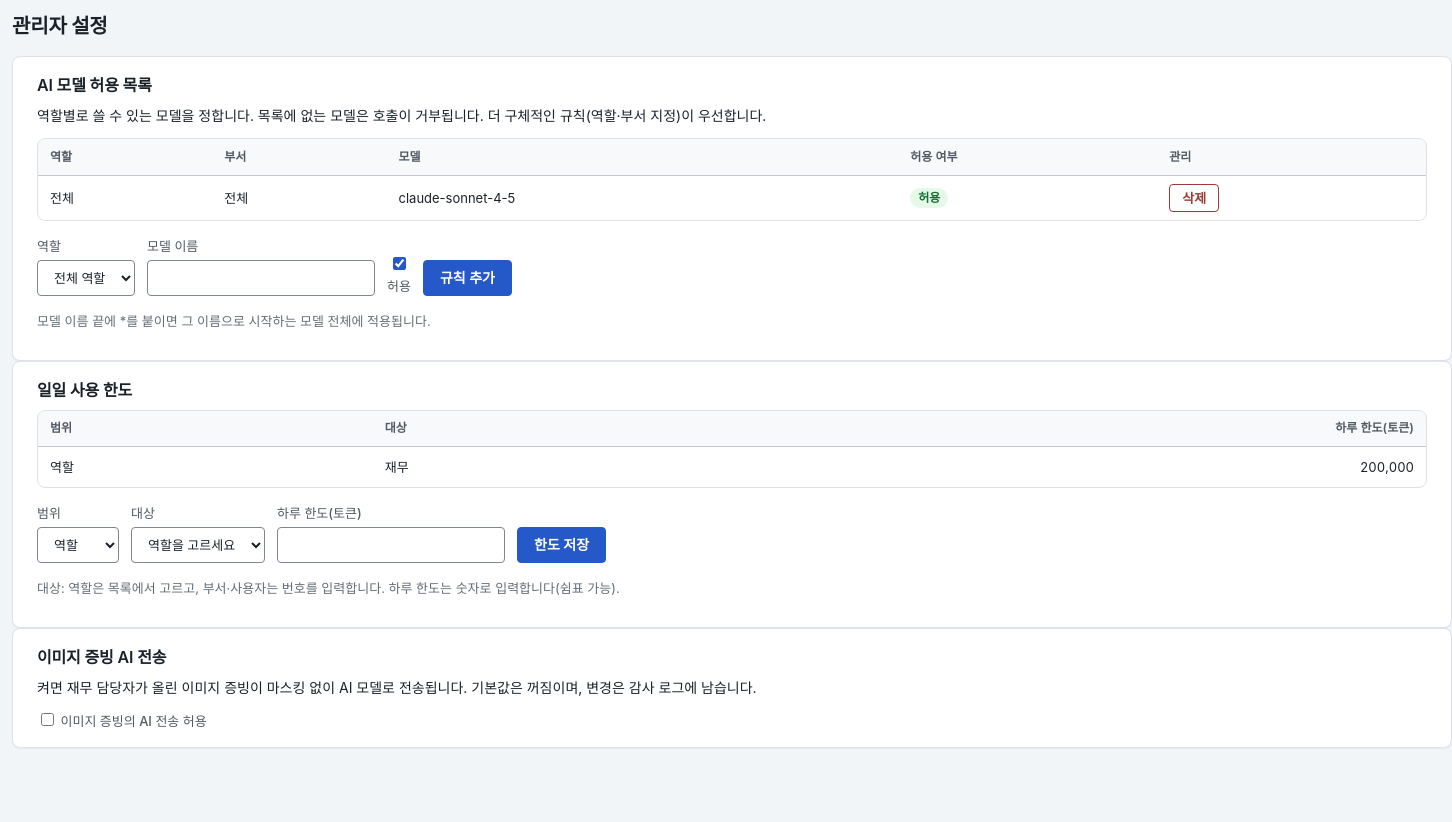
Test case: 관리자 설정 화면 › 저장 실패 문구에서 서버 머리말을 떼고 보인다
This screenshot has width=1452, height=822.
Expected: the text "claude-sonnet-4-5" is shown, [386,175,898,220]
Type "m" into the field labelled "모델 이름". click: (261, 278)
box: [147,260,375,296]
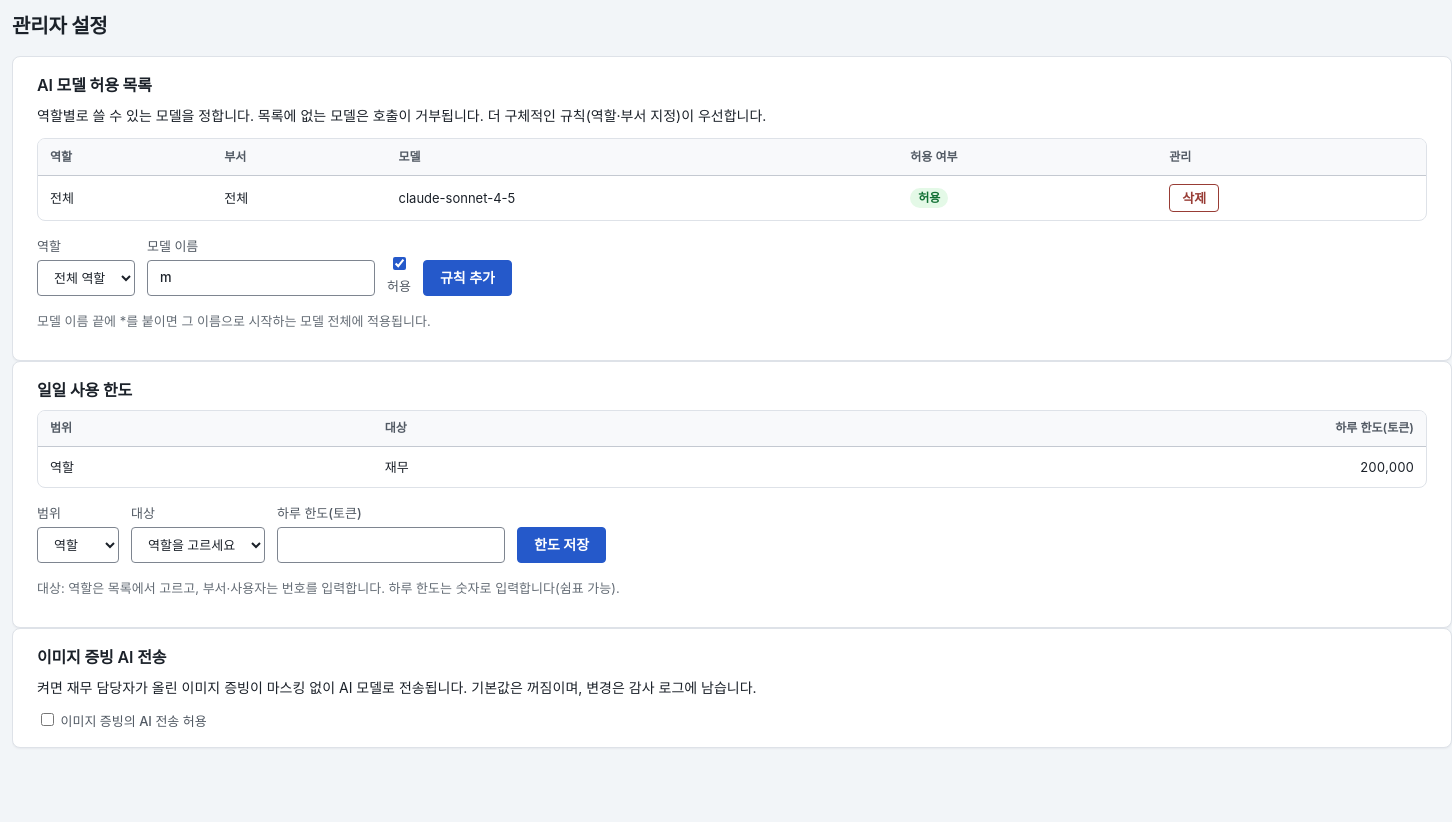
Click the button "규칙 추가". click: (467, 278)
box: [423,260,512,296]
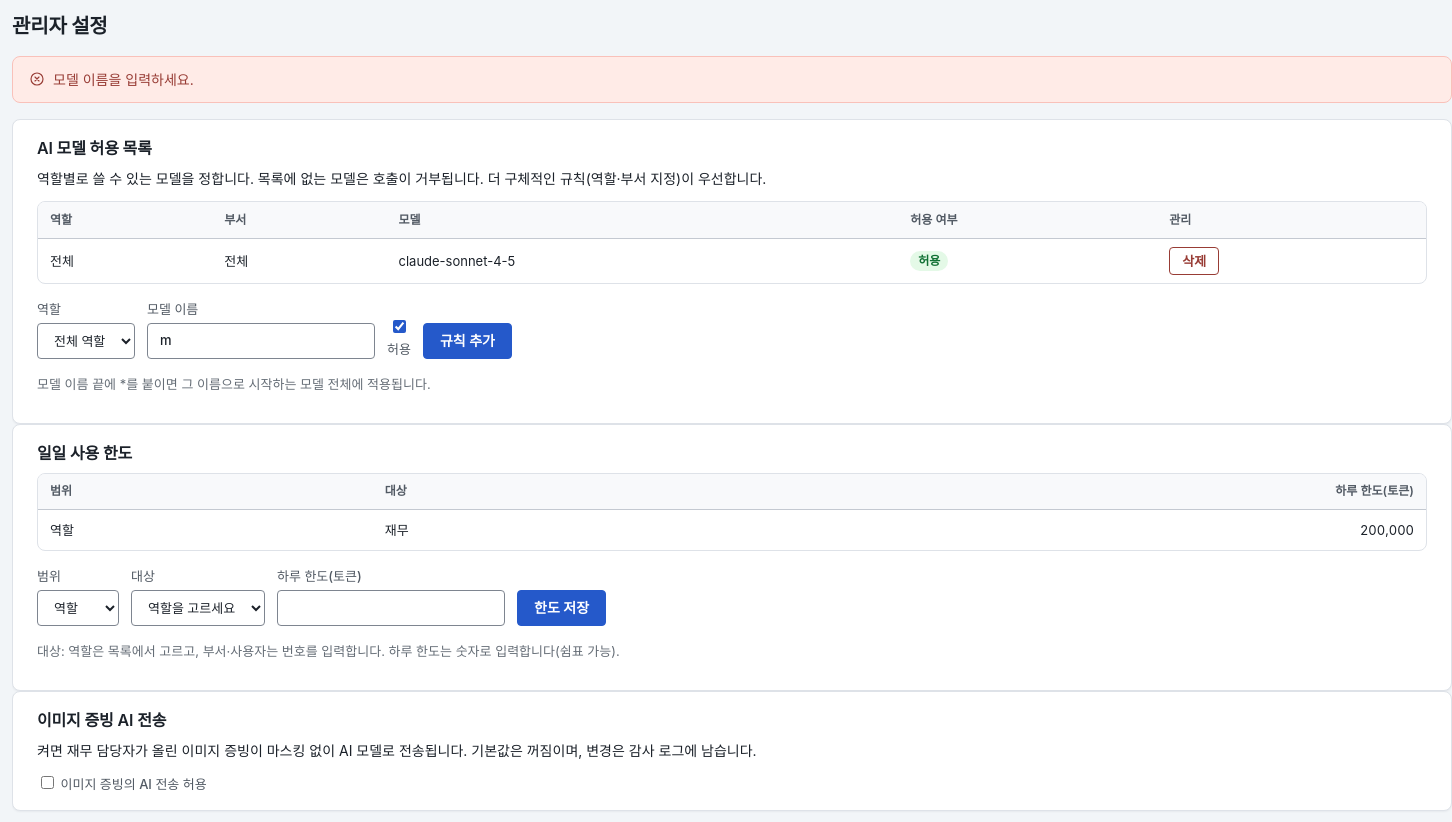
Expected: the message reads "모델 이름을 입력하세요.", [53,71,194,88]
